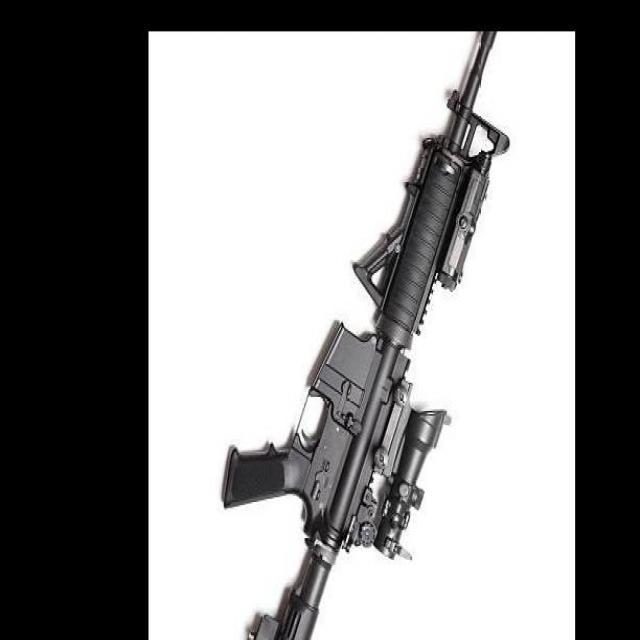weapon: (222, 31, 510, 640)
